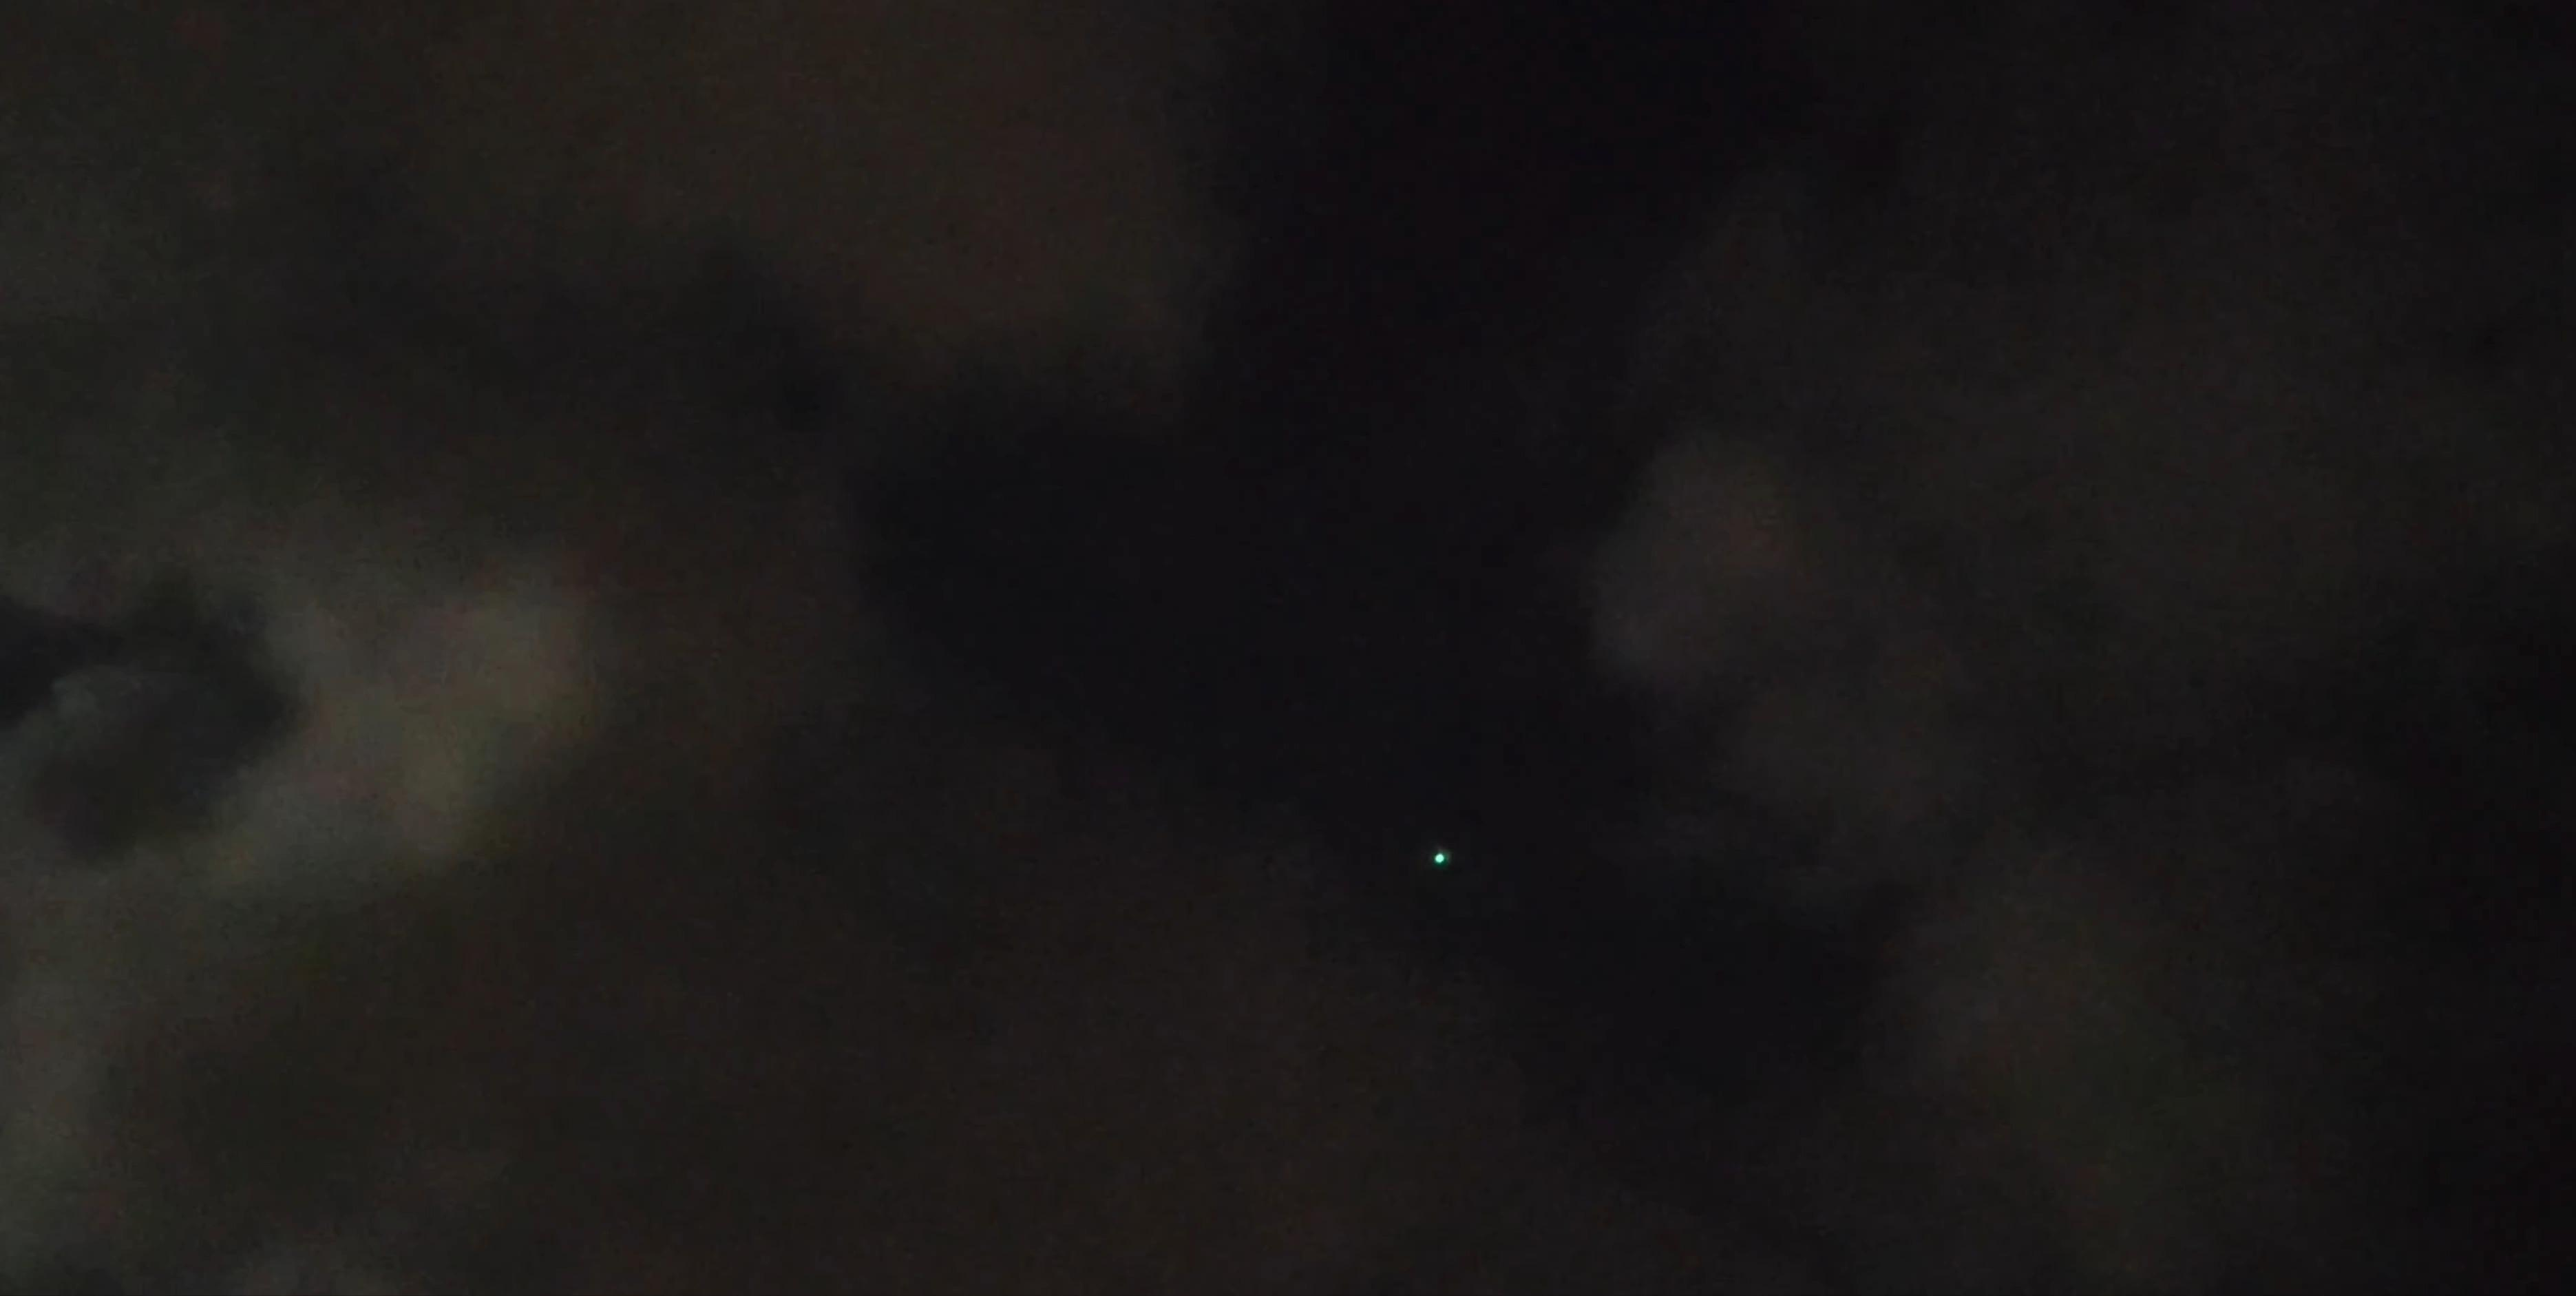Plane: (1414, 818, 1474, 893)
